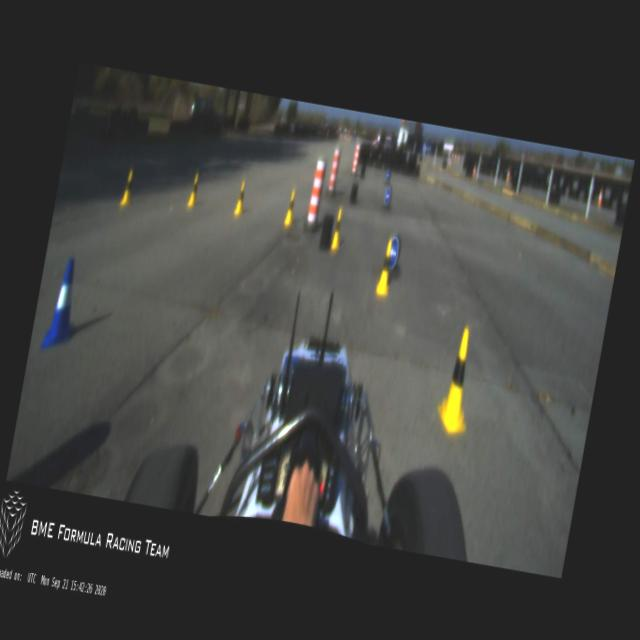blue_cone: (40, 254, 84, 354)
unknown_cone: (302, 158, 328, 235), (324, 146, 344, 198), (349, 143, 362, 177)
yellow_cone: (433, 323, 484, 436), (374, 239, 396, 296), (119, 166, 138, 208), (329, 207, 346, 250), (282, 188, 298, 226), (186, 172, 202, 208), (233, 181, 248, 216)
